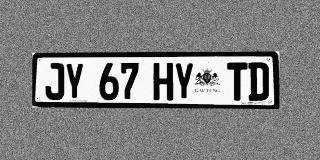6: (99, 63, 119, 100)
7: (119, 63, 139, 100)
D: (248, 62, 269, 101)
H: (153, 63, 173, 100)
J: (45, 63, 64, 100)
T: (227, 62, 247, 101)
Y: (174, 63, 194, 100), (65, 63, 84, 100)
